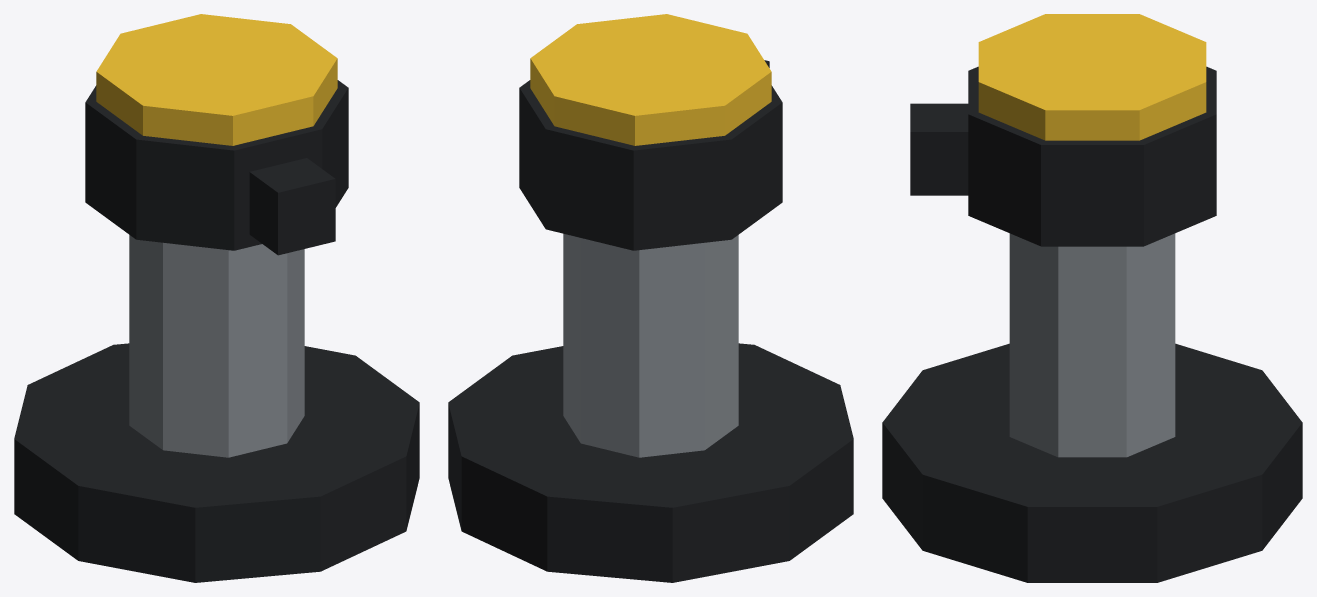
The model's file is prop_sprinkler.glb.
The picture shows the model from 3 angles, left to right: view 1: azimuth 30°, elevation 25°; view 2: azimuth 150°, elevation 25°; view 3: azimuth 270°, elevation 25°; orthographic projection.
Visible parts, largest first — view 1: prop_sprinkler; view 2: prop_sprinkler; view 3: prop_sprinkler.
Boxes of the visible parts, x1=… form: prop_sprinkler: x1=14, y1=14, x2=419, y2=582; prop_sprinkler: x1=448, y1=14, x2=853, y2=582; prop_sprinkler: x1=882, y1=14, x2=1302, y2=582.
Bounding box in the file's own units: 0.1427 × 0.172 × 0.15.
